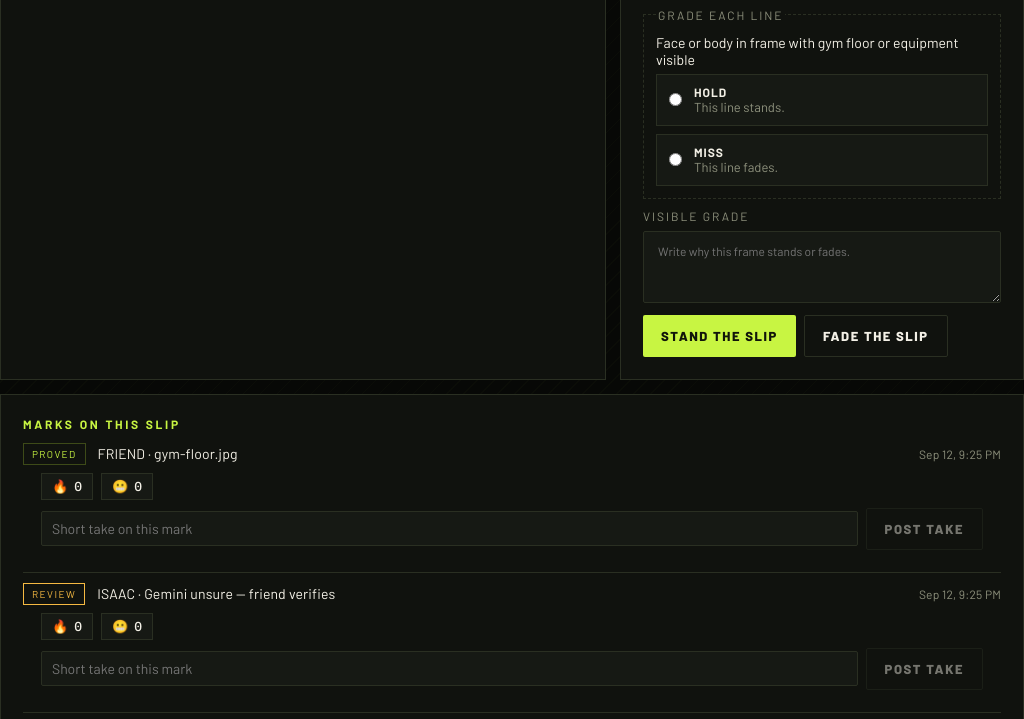
Test: REVIEW appeal on a ticket › shows Gemini rationale to the listed friend and requires a written grade
(page scrolled)
Click the button "Stand the slip".
click(719, 336)  # box left=643, top=314, right=796, bottom=356
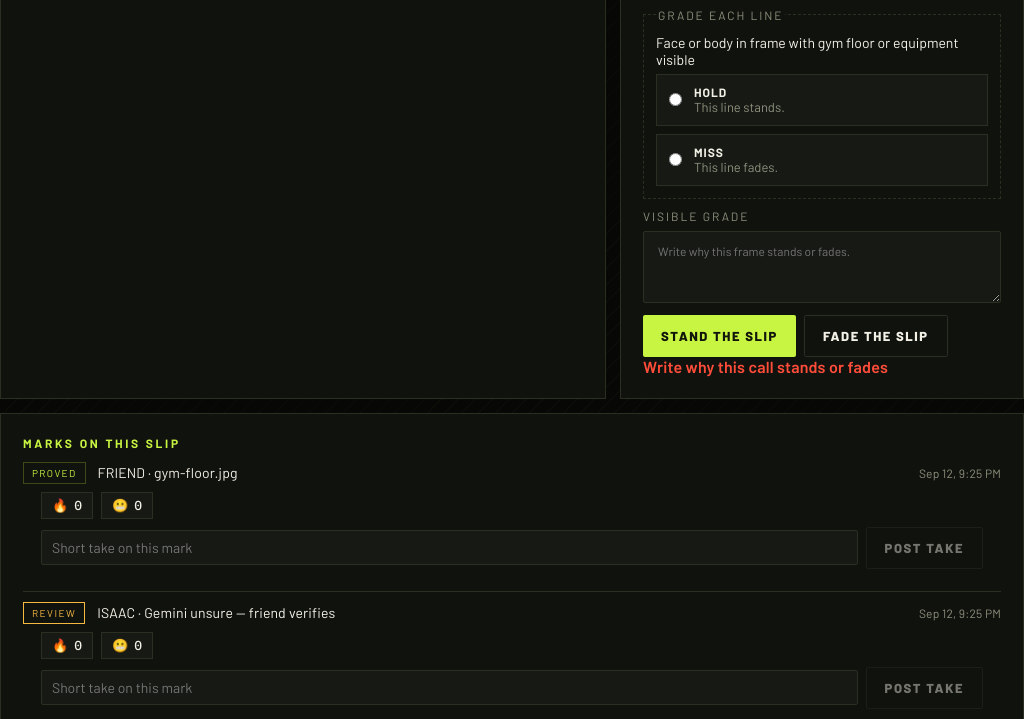
Check: the text "Write why this call stands or fades" is shown, box left=643, top=356, right=888, bottom=376
Type "Date is on the top of the page." into the text box with placeholder "Write why this frame stands or fades.".
click(822, 266); type("Date is on the top of the page.")  # box left=643, top=230, right=1001, bottom=302
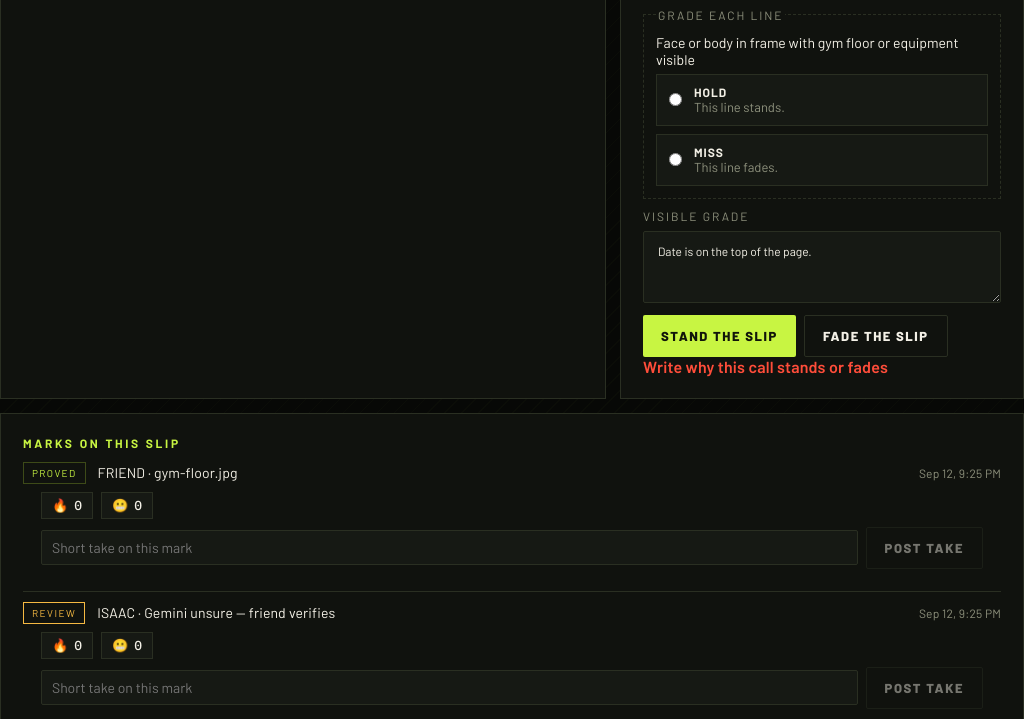
Click the button "Stand the slip".
click(719, 336)  # box left=643, top=314, right=796, bottom=356
(page scrolled)
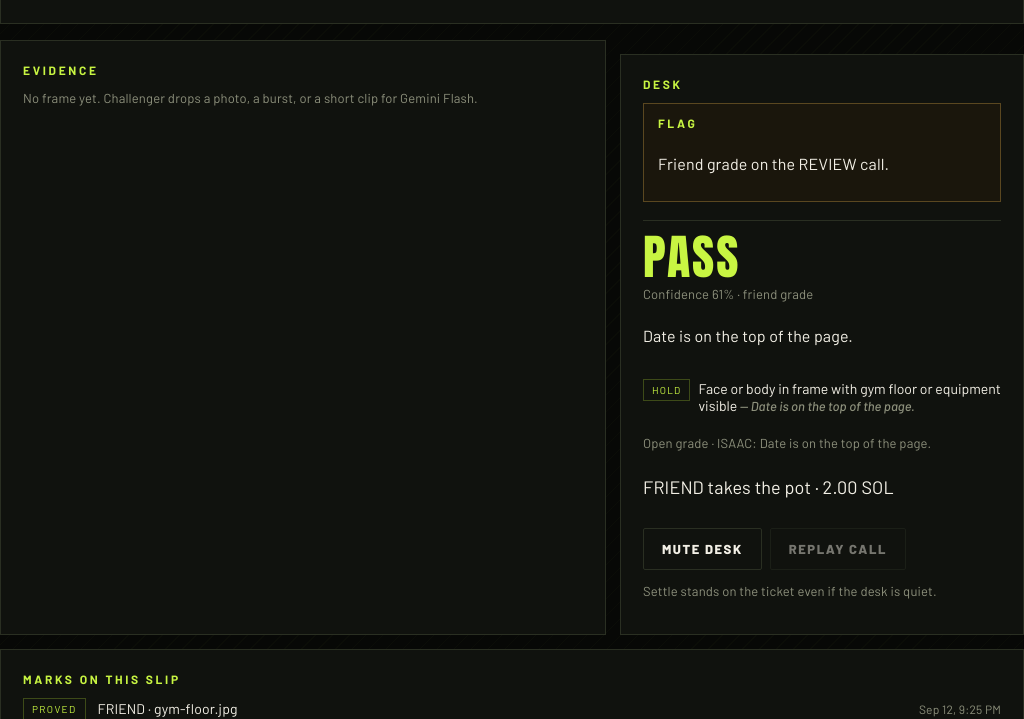
Check: the text "Date is on the top of the page." is shown, box left=643, top=326, right=853, bottom=344
